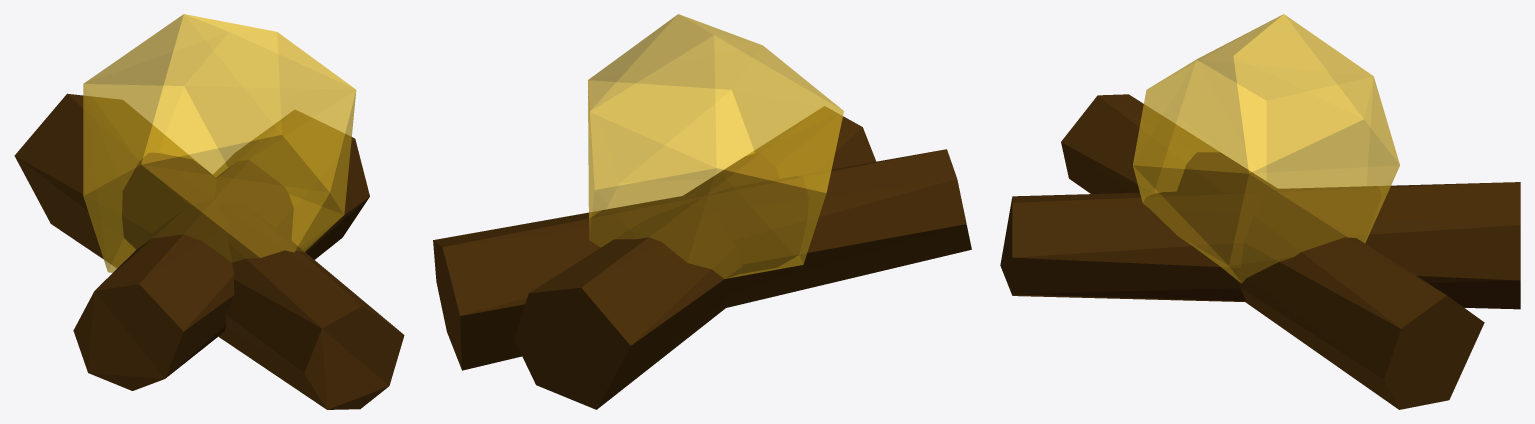
The model's file is fire.dae.
The picture shows the model from 3 angles, left to right: view 1: azimuth 30°, elevation 25°; view 2: azimuth 150°, elevation 25°; view 3: azimuth 270°, elevation 25°; orthographic projection. The views are drawn at different scales.
Parts seen in each view (by area): view 1: Icosphere, Cylinder, Cylinder_002; view 2: Icosphere, Cylinder_002, Cylinder; view 3: Icosphere, Cylinder, Cylinder_002.
Boxes of the visible parts, x1,y1,x2,y2 form: Icosphere: (83,14,356,273); Cylinder: (14,93,404,409); Cylinder_002: (73,110,369,390); Icosphere: (588,14,843,278); Cylinder_002: (433,149,971,370); Cylinder: (514,106,876,409); Icosphere: (1133,14,1399,282); Cylinder: (1000,182,1520,309); Cylinder_002: (1061,94,1484,409).
Size of the model in its own units: 7.15 by 8.16 by 5.31.
